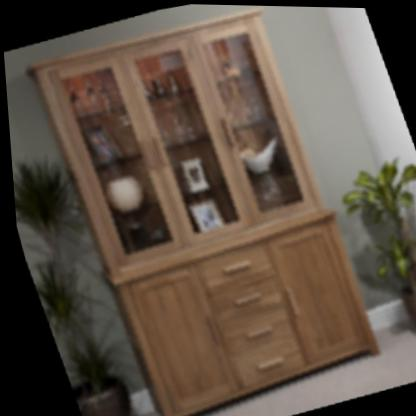Cupboard: (18, 0, 389, 416)
